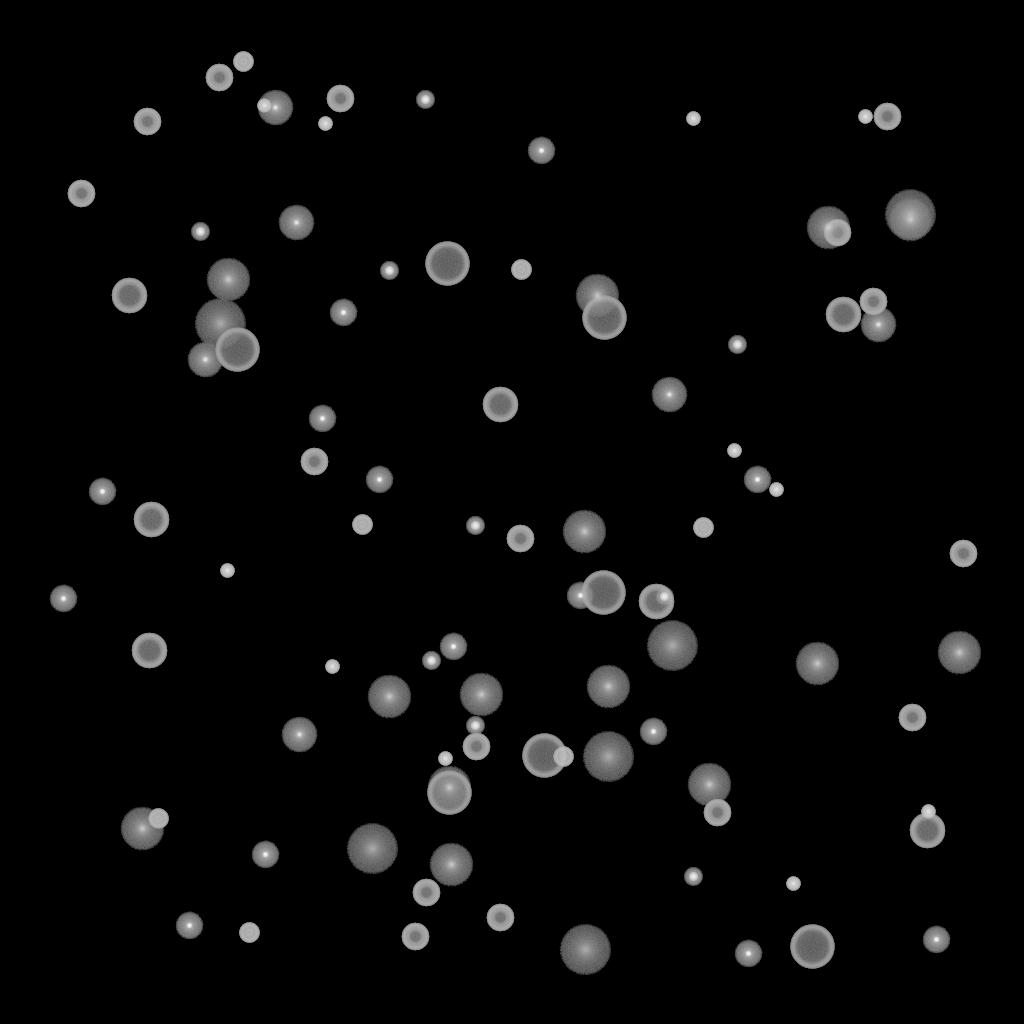depth:-10: (566, 582, 594, 610), (439, 633, 467, 661), (922, 926, 950, 954), (49, 585, 77, 613), (639, 718, 667, 746), (251, 841, 279, 869), (308, 405, 336, 433), (527, 137, 555, 165), (743, 466, 771, 494), (175, 912, 203, 940), (734, 940, 762, 968), (329, 299, 357, 327), (365, 466, 393, 494), (88, 478, 116, 506)
depth:-20: (422, 652, 440, 670), (380, 262, 398, 280), (728, 336, 746, 354), (466, 517, 484, 535), (684, 868, 702, 886), (416, 91, 434, 109), (466, 717, 484, 735), (191, 223, 209, 241), (655, 588, 673, 606)
depth:-30: (257, 99, 271, 113), (318, 117, 332, 131), (921, 805, 935, 819), (727, 444, 741, 458), (325, 660, 339, 674), (686, 112, 700, 126), (786, 877, 800, 891), (858, 110, 872, 124), (220, 564, 234, 578), (769, 483, 783, 497), (438, 752, 452, 766)
depth:-40: (148, 809, 168, 829), (693, 518, 713, 538), (511, 260, 531, 280), (553, 747, 573, 767), (239, 923, 259, 943), (233, 52, 253, 72), (352, 515, 372, 535)
depth:-50: (703, 799, 731, 827), (506, 525, 534, 553), (486, 904, 514, 932), (859, 288, 887, 316), (300, 448, 328, 476), (949, 540, 977, 568), (326, 85, 354, 113), (873, 103, 901, 131), (462, 733, 490, 761), (205, 64, 233, 92), (823, 219, 851, 247), (412, 879, 440, 907), (898, 704, 926, 732), (133, 108, 161, 136), (67, 180, 95, 208), (401, 923, 429, 951)
depth:-60: (638, 584, 674, 620), (482, 387, 518, 423), (131, 633, 167, 669), (111, 278, 147, 314), (133, 502, 169, 538), (825, 297, 861, 333), (909, 813, 945, 849)
depth:-70: (582, 296, 626, 340), (581, 571, 625, 615), (425, 242, 469, 286), (215, 328, 259, 372), (427, 771, 471, 815), (522, 734, 566, 778), (790, 925, 834, 969)
depth:0: (187, 342, 223, 378), (257, 90, 293, 126), (860, 307, 896, 343), (651, 377, 687, 413), (281, 717, 317, 753), (278, 205, 314, 241)
depth:10: (459, 673, 503, 717), (586, 665, 630, 709), (575, 274, 619, 318), (206, 258, 250, 302), (937, 631, 981, 675), (427, 766, 471, 810), (562, 510, 606, 554), (429, 843, 473, 887), (120, 807, 164, 851), (367, 675, 411, 719), (888, 198, 932, 242), (806, 206, 850, 250), (687, 763, 731, 807), (795, 642, 839, 686)
depth:20: (646, 621, 698, 671), (559, 925, 611, 975), (194, 299, 246, 349), (884, 190, 936, 240), (582, 732, 634, 782), (346, 824, 398, 874)
